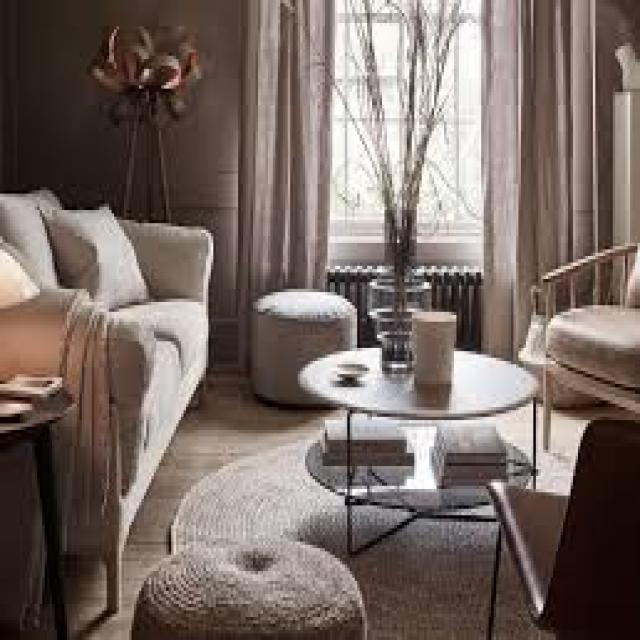Chair: (481, 407, 640, 637)
Sofa: (0, 174, 227, 542)
Table: (304, 329, 549, 546)
